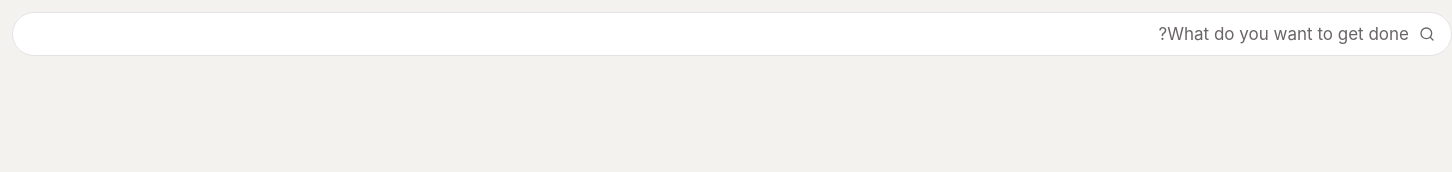
Scenario: SearchField › is a search box that submits on Enter and can be cleared
Type " gate pass " into the search field with placeholder "What do you want to get done?".
click(716, 34); type(" gate pass ")  # box [12, 12, 1419, 56]
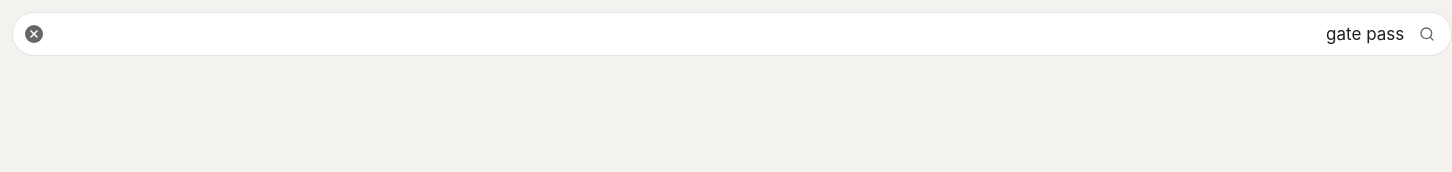
Press Enter in the search field named "What do you want to get done?", box [56, 12, 1419, 56]
Click the button named "Clear search".
click(34, 34)  # box [12, 12, 56, 56]
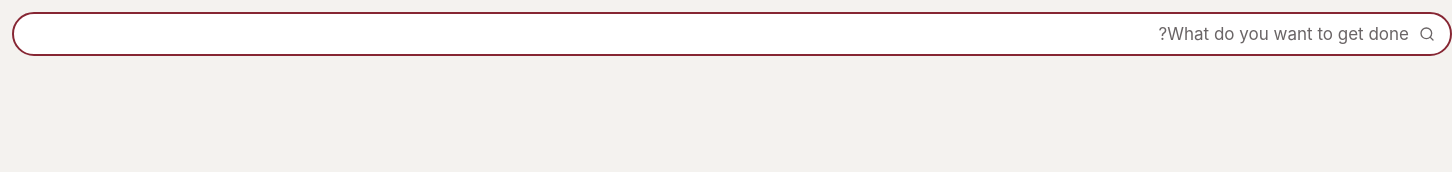
Result: the search field with placeholder "What do you want to get done?" is empty at [12, 12, 1419, 56]
